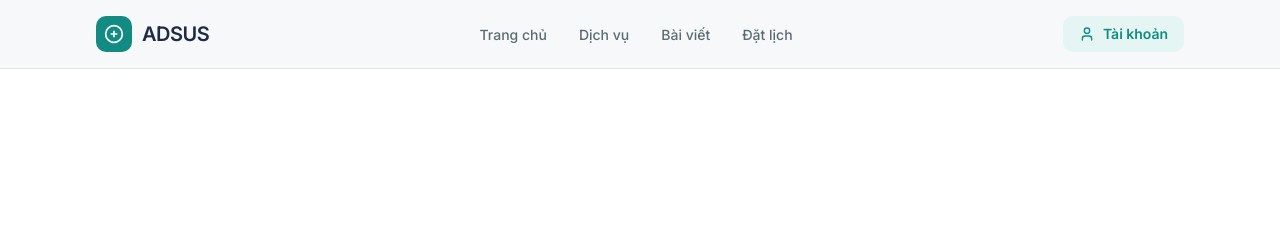
Test: LandingNavbar — Patient dropdown › dropdown có button 'Đăng xuất'
Click the button "Tài khoản".
click(1123, 34)  # box [1063,16,1184,52]
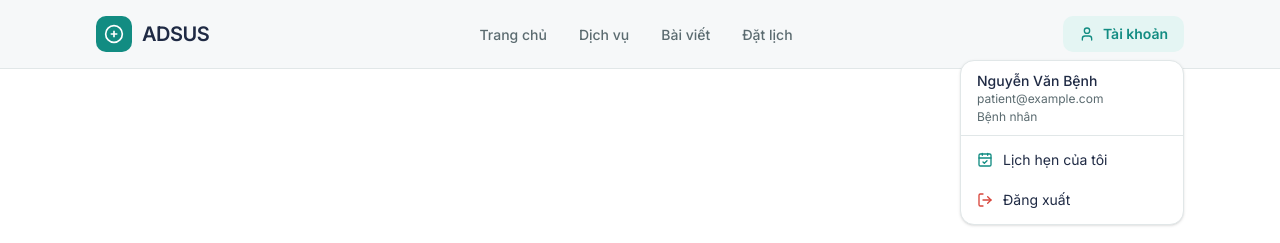
Expected: the button "Đăng xuất" is shown, [961,180,1183,220]
